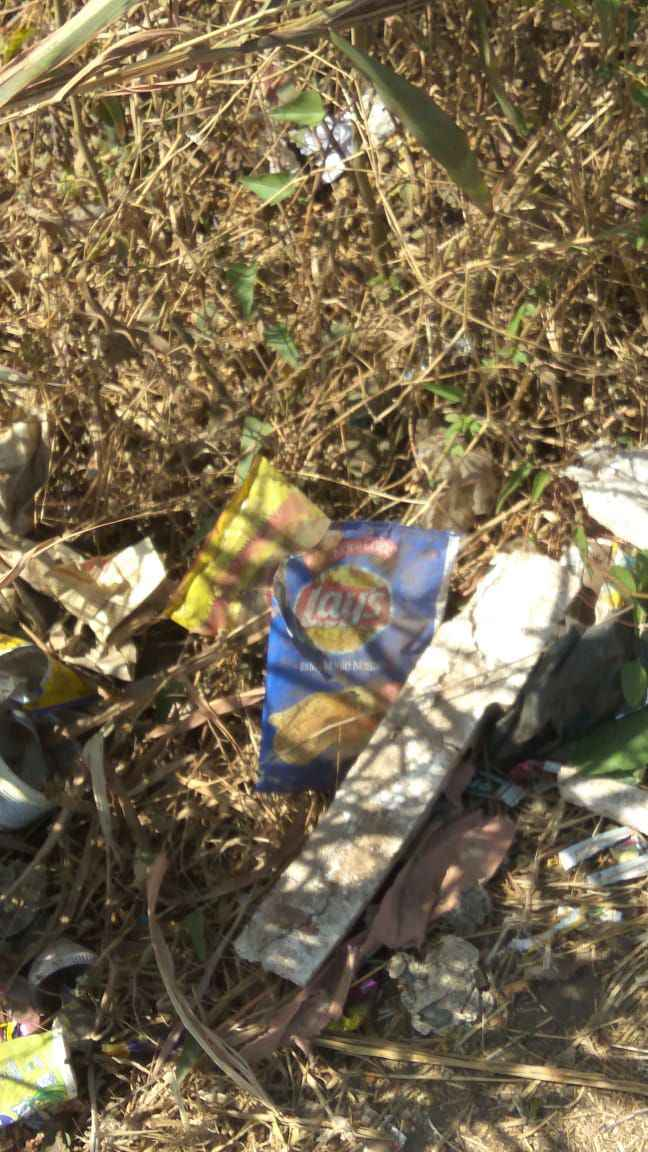Lays: (284, 558, 410, 673)
